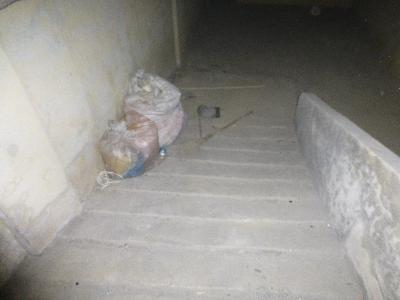plastic_bag: (120, 68, 184, 150), (96, 110, 161, 181)
